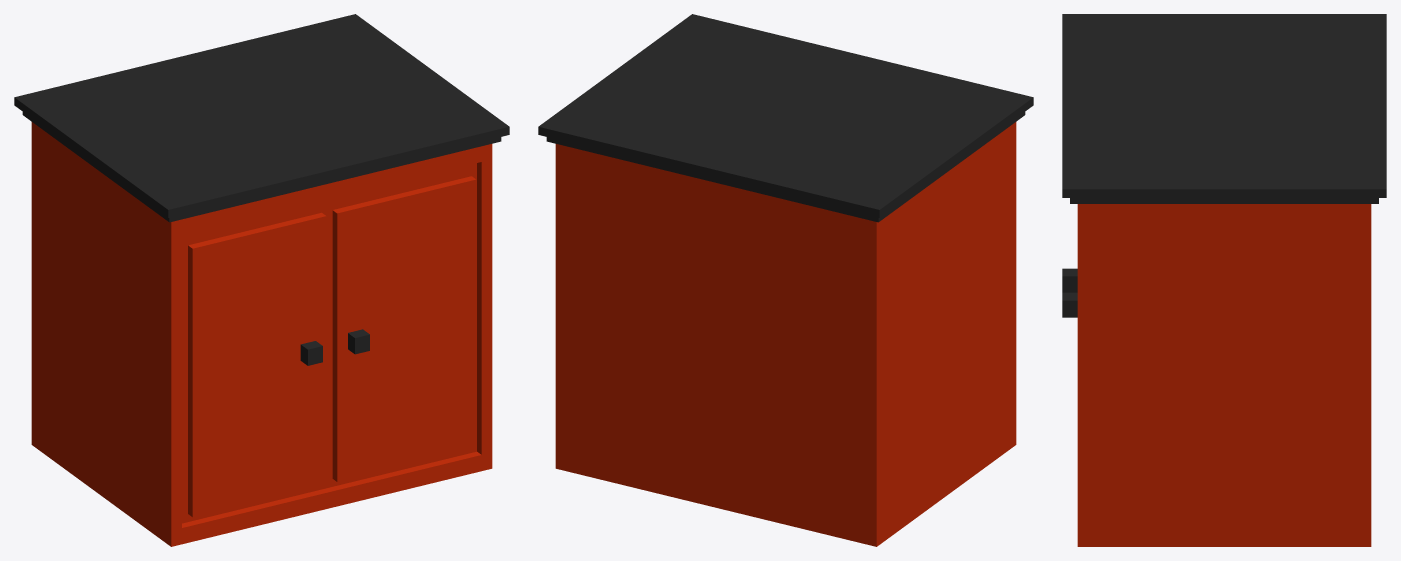
The model's file is Kitchen cabinet countertop.fbx.
3 views of the same model, side by side, from view 1: azimuth 30°, elevation 25°; view 2: azimuth 150°, elevation 25°; view 3: azimuth 270°, elevation 25° (orthographic). The views are drawn at different scales.
Parts seen in each view (by area): view 1: Kitchen cabinet countertop; view 2: Kitchen cabinet countertop; view 3: Kitchen cabinet countertop.
Boxes of the visible parts, box(x1,y1,x2,y2) form: Kitchen cabinet countertop: box(14, 14, 509, 546); Kitchen cabinet countertop: box(538, 14, 1033, 546); Kitchen cabinet countertop: box(1062, 14, 1386, 546).
Size of the model in its own units: 0.9 by 0.8685 by 0.7032.
